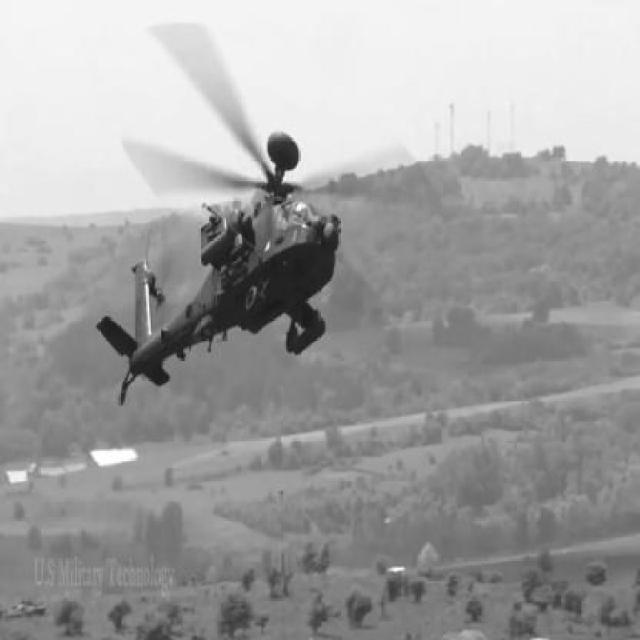Helicopter: (95, 21, 441, 410)
